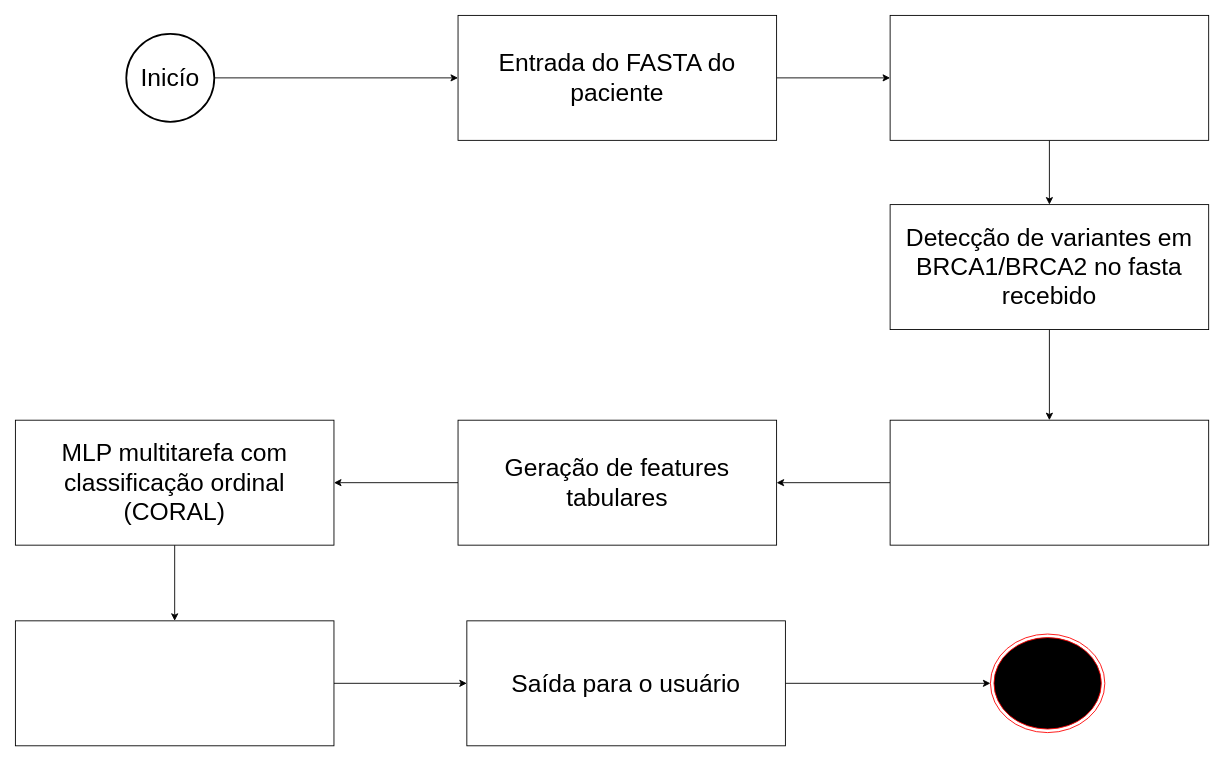
Image size: 1224x761. Some labels were removed from this diagram. The shapes that lost their labels are listed below. From the top down, each one's centre as x and y in pixels, then its label:
[1049,77]: Resgate da sequência de referência (BRCA1/BRCA2) via API
[1049,482]: Anotação de variantes via Ensembl VEP
[174,683]: Pós-processamento das predições
